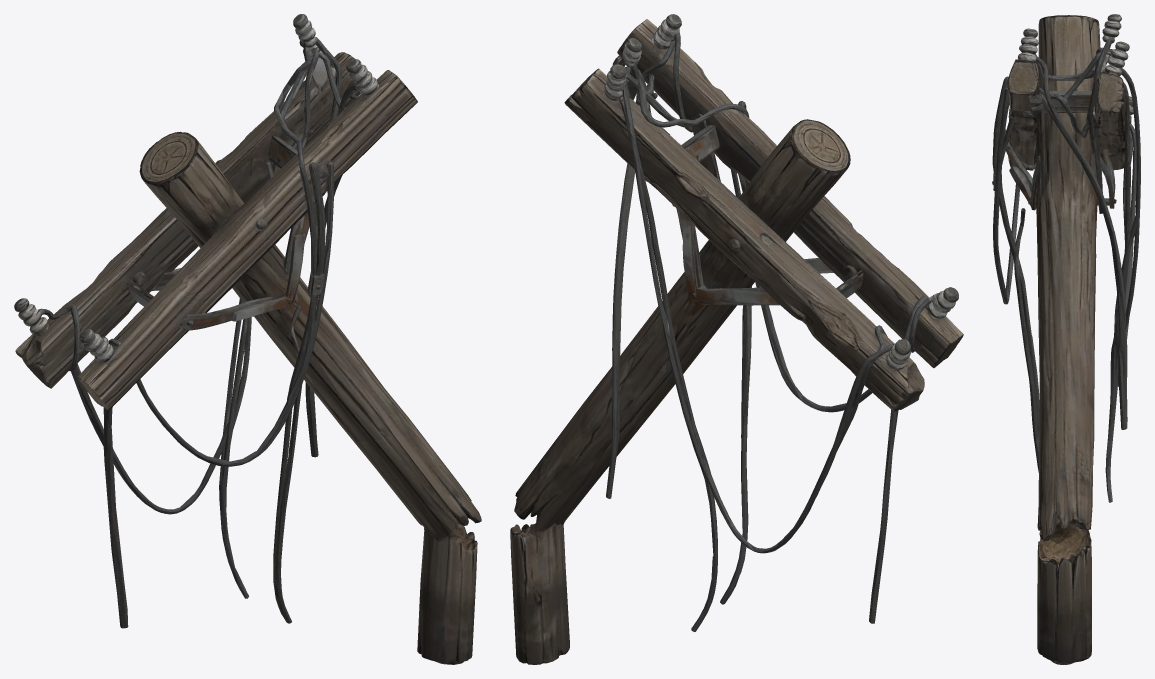
File: broken_pole.glb
3 renders of one model, left to right at view 1: azimuth 30°, elevation 25°; view 2: azimuth 150°, elevation 25°; view 3: azimuth 270°, elevation 25°, orthographic. The views are drawn at different scales.
Size of the model in its own units: 1.28 by 1.89 by 0.4297.
1 material, 1 textured.
